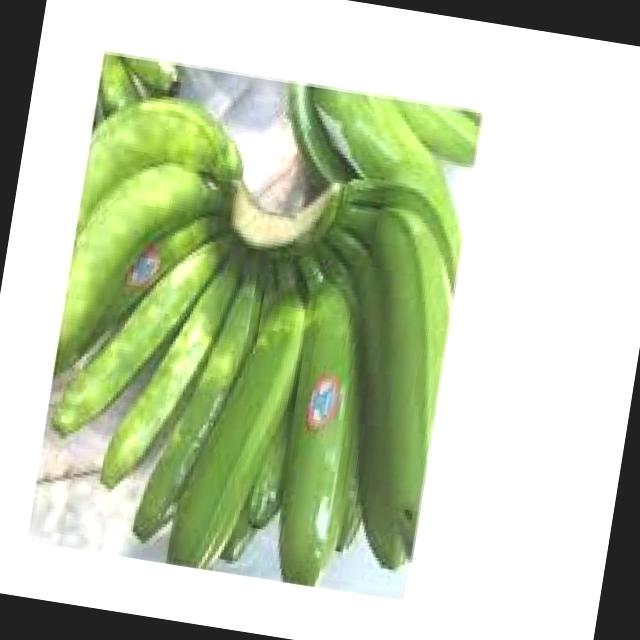Banana: (24, 48, 484, 602)
